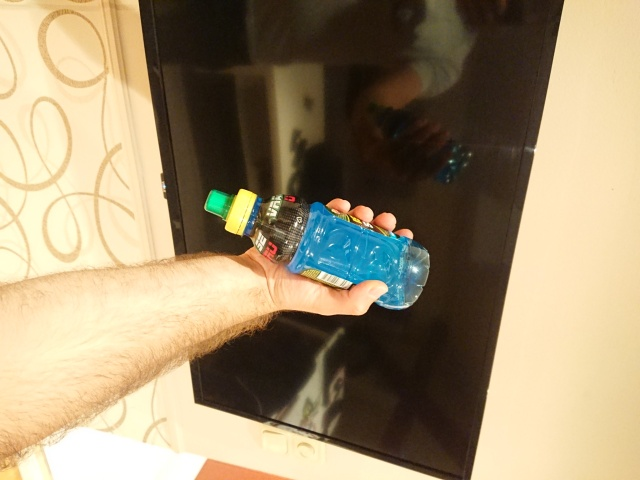Vindi Iso Sport Forest Strawberries 500mL: (202, 186, 432, 311)
